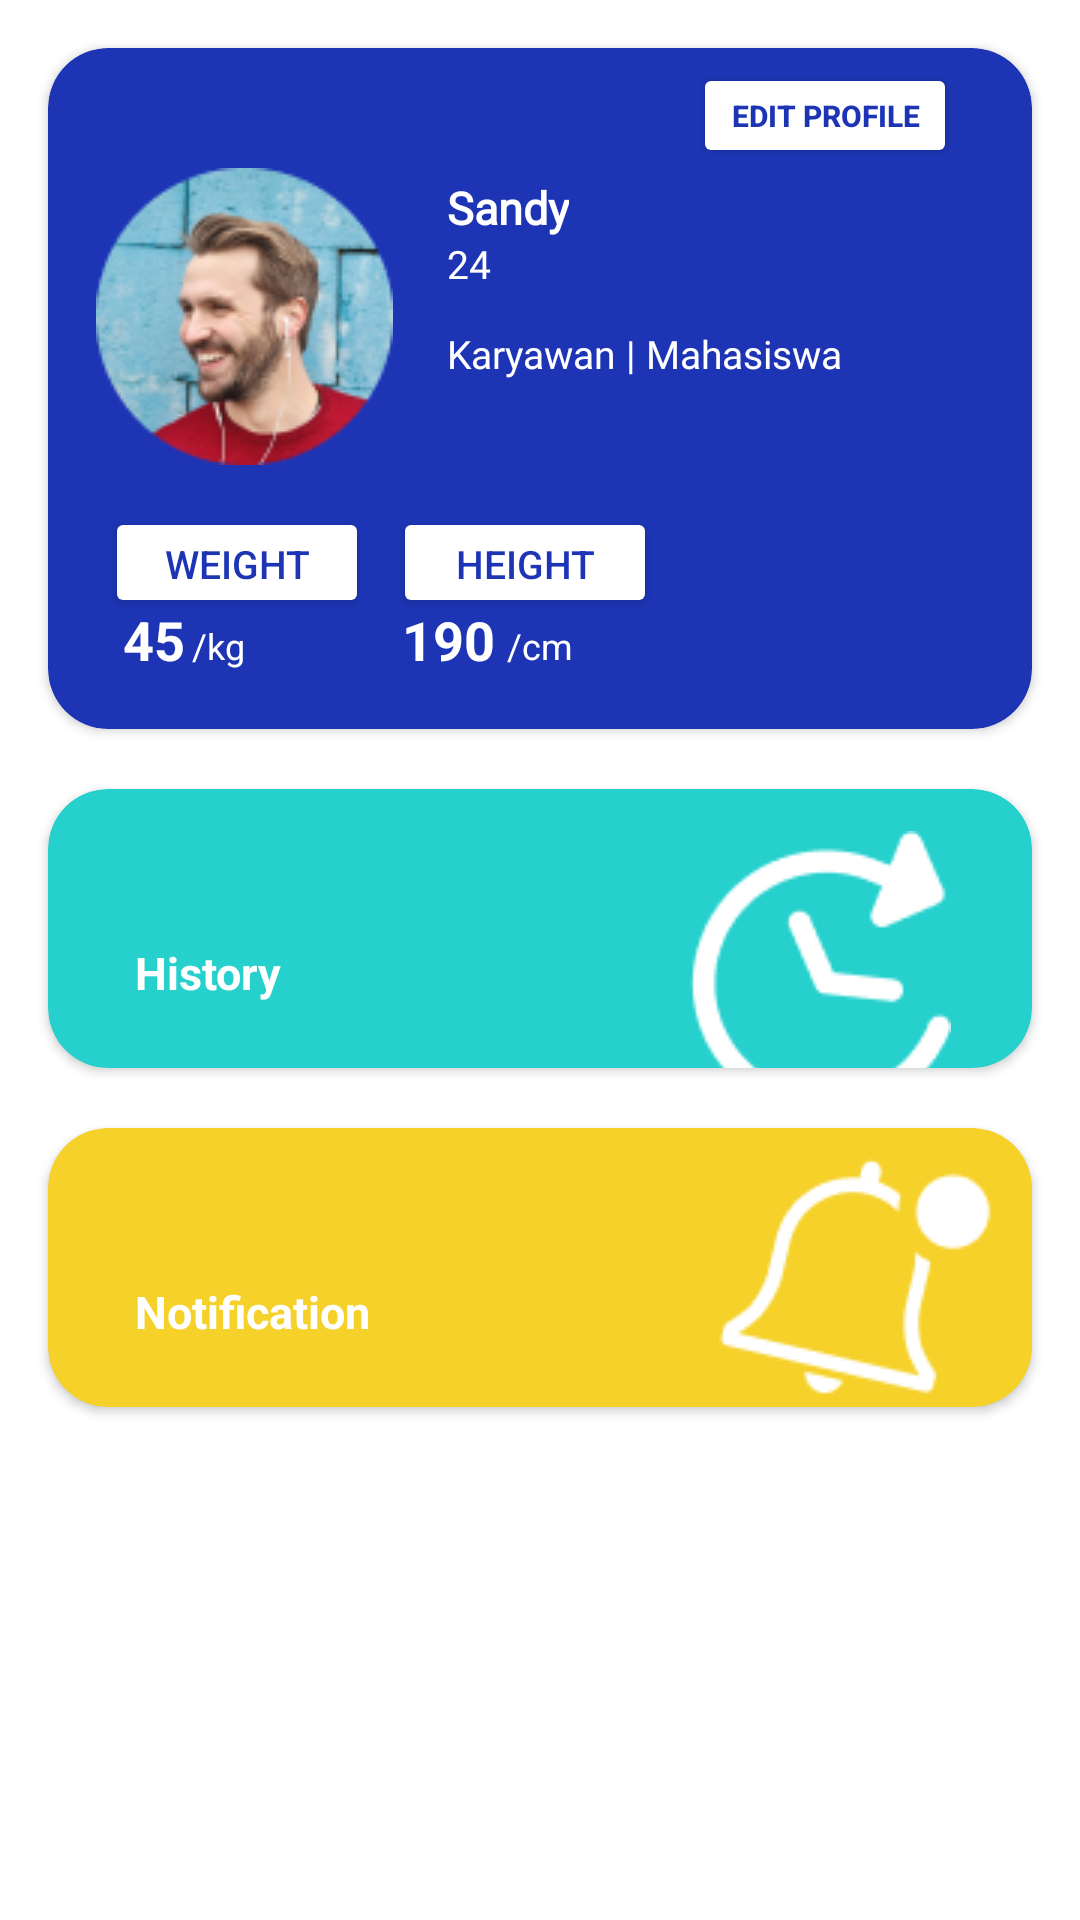

Locate icon controls on the screen. Image size 1080 × 1920, boxes as bbox=(x1, y1, x2, y2).
profil user: bbox=(96, 168, 393, 465)
